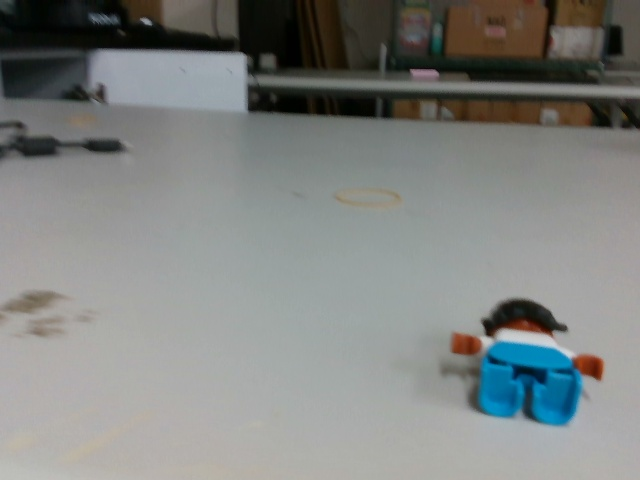people: (445, 295, 610, 434)
